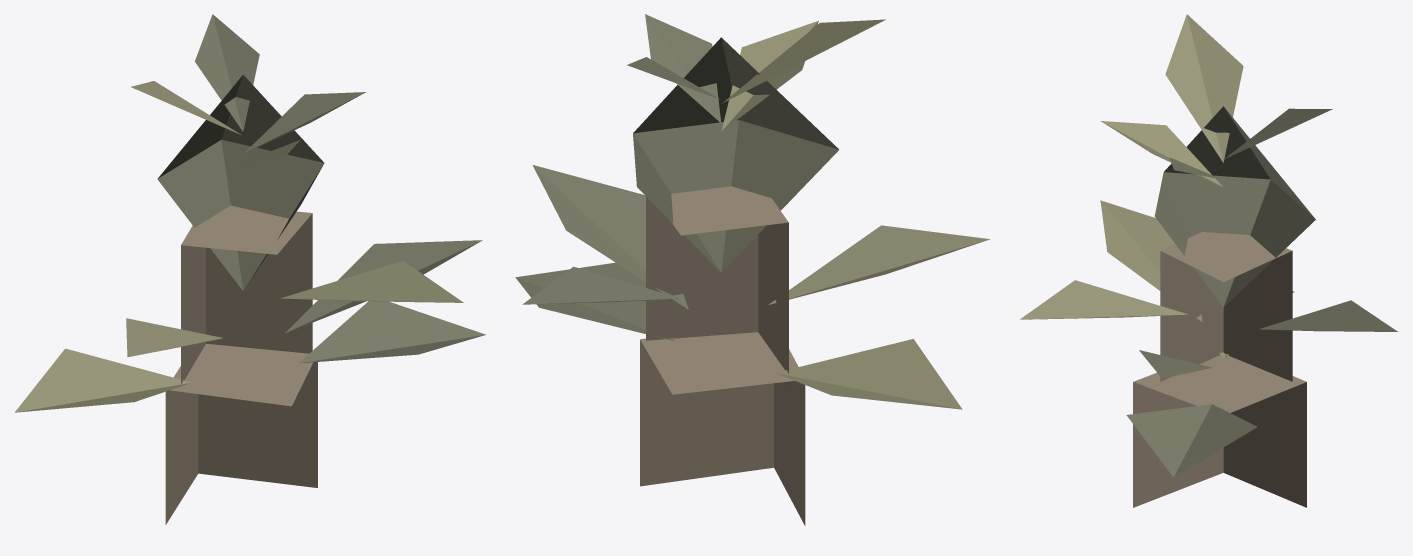
Rendered from shui.pingpeng@seedling__winter.glb.
The picture shows the model from 3 angles, left to right: view 1: azimuth 30°, elevation 25°; view 2: azimuth 150°, elevation 25°; view 3: azimuth 270°, elevation 25°; orthographic projection. The views are drawn at different scales.
Parts seen in each view (by area): view 1: shui.pingpeng@seedling__winter; view 2: shui.pingpeng@seedling__winter; view 3: shui.pingpeng@seedling__winter.
Part boxes in pixels (bbox=[...]): shui.pingpeng@seedling__winter: bbox=[15, 14, 485, 524]; shui.pingpeng@seedling__winter: bbox=[515, 14, 989, 525]; shui.pingpeng@seedling__winter: bbox=[1020, 14, 1397, 507].
Size of the model in its own units: 0.0847 by 0.0853 by 0.0676.
